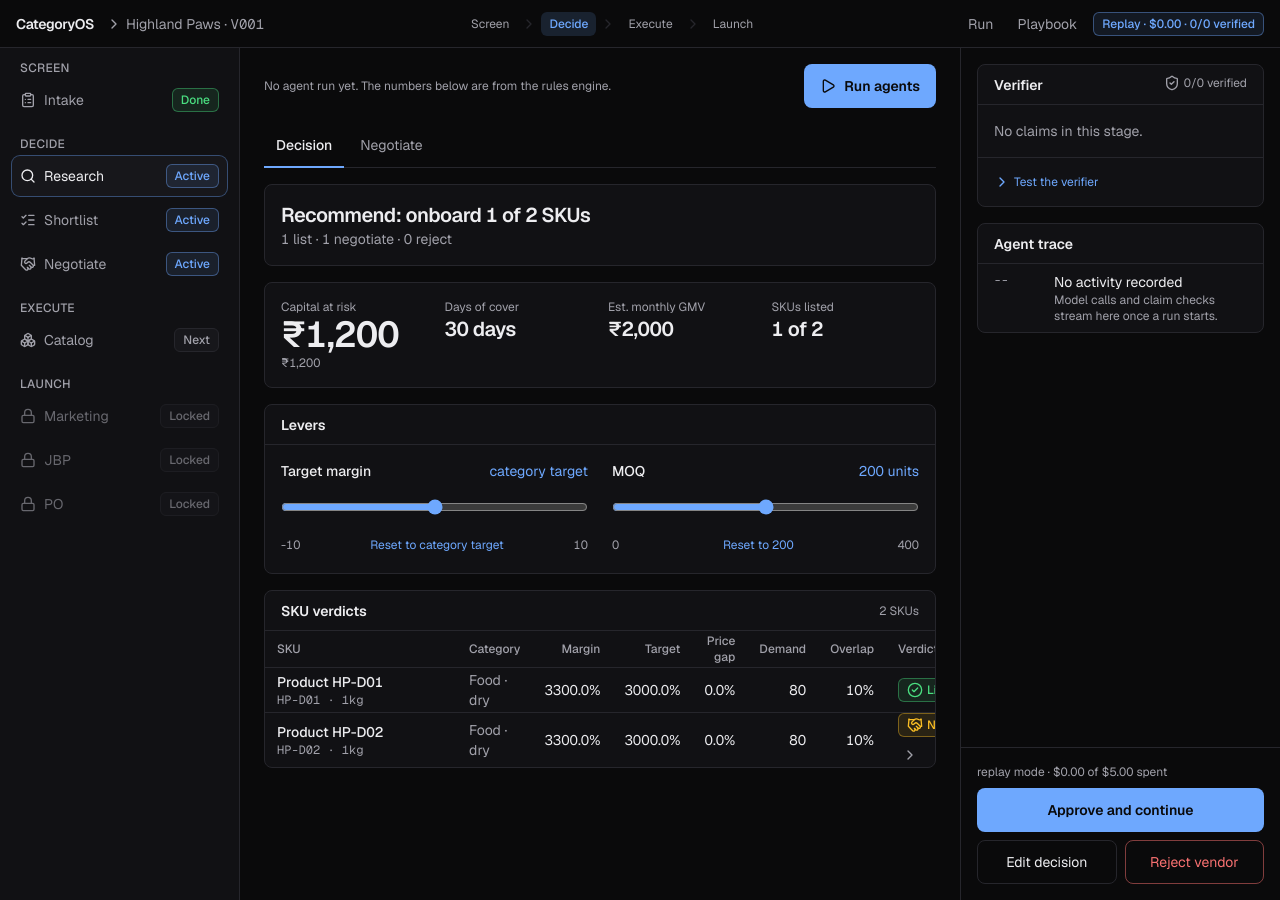
Workspace stage views and lever init › switches the centre panel from the rail and writes ?stage=
Expected: the heading "Recommend: onboard 1 of 2 SKUs" is shown, [281,201,590,229]
Click the button "Catalog Next" at (120, 340), box [12,320,227,360]
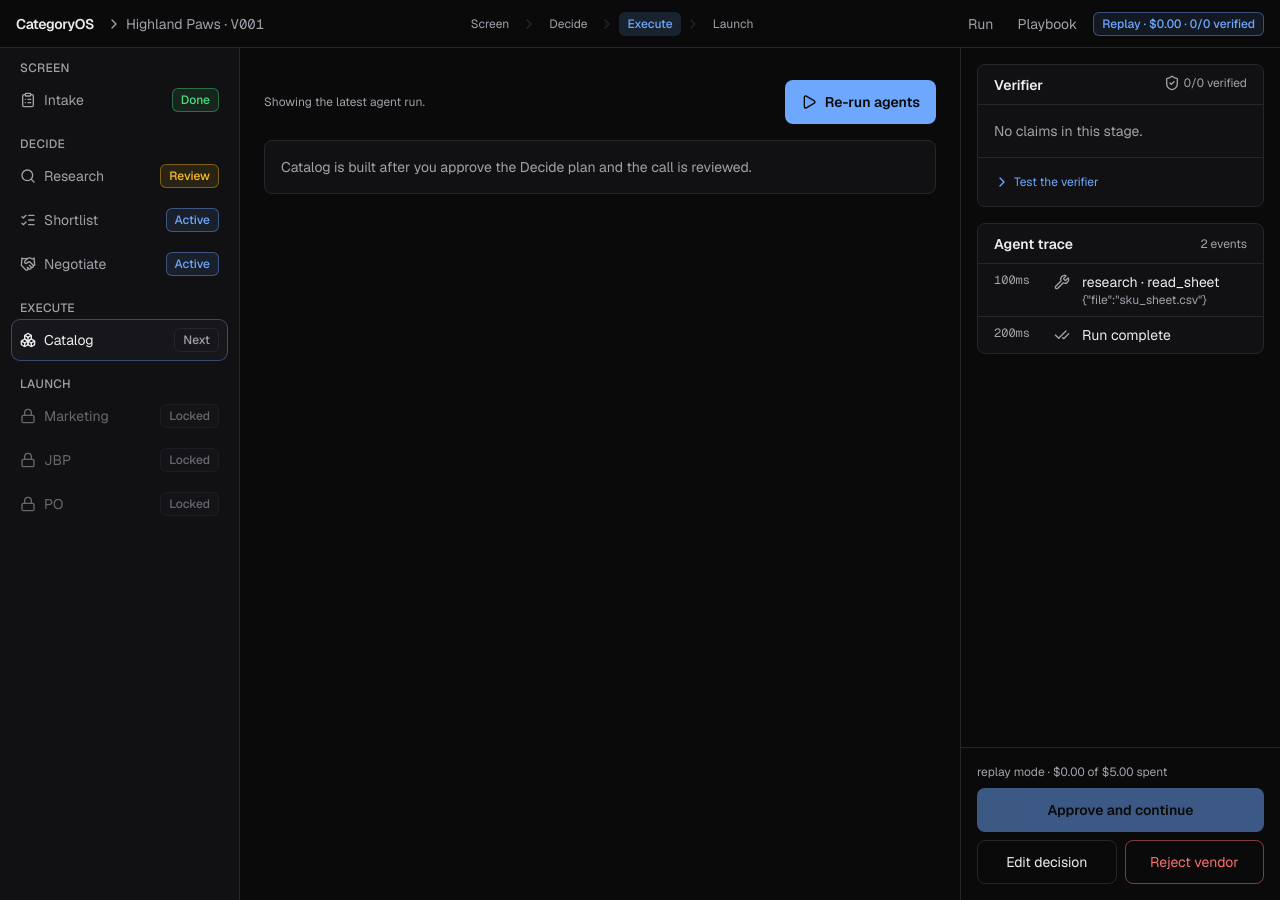
Expected: the element named "Catalog studio" is shown, [264,140,936,194]
Click the button "Negotiate Active" at (120, 264), box [12,244,227,284]
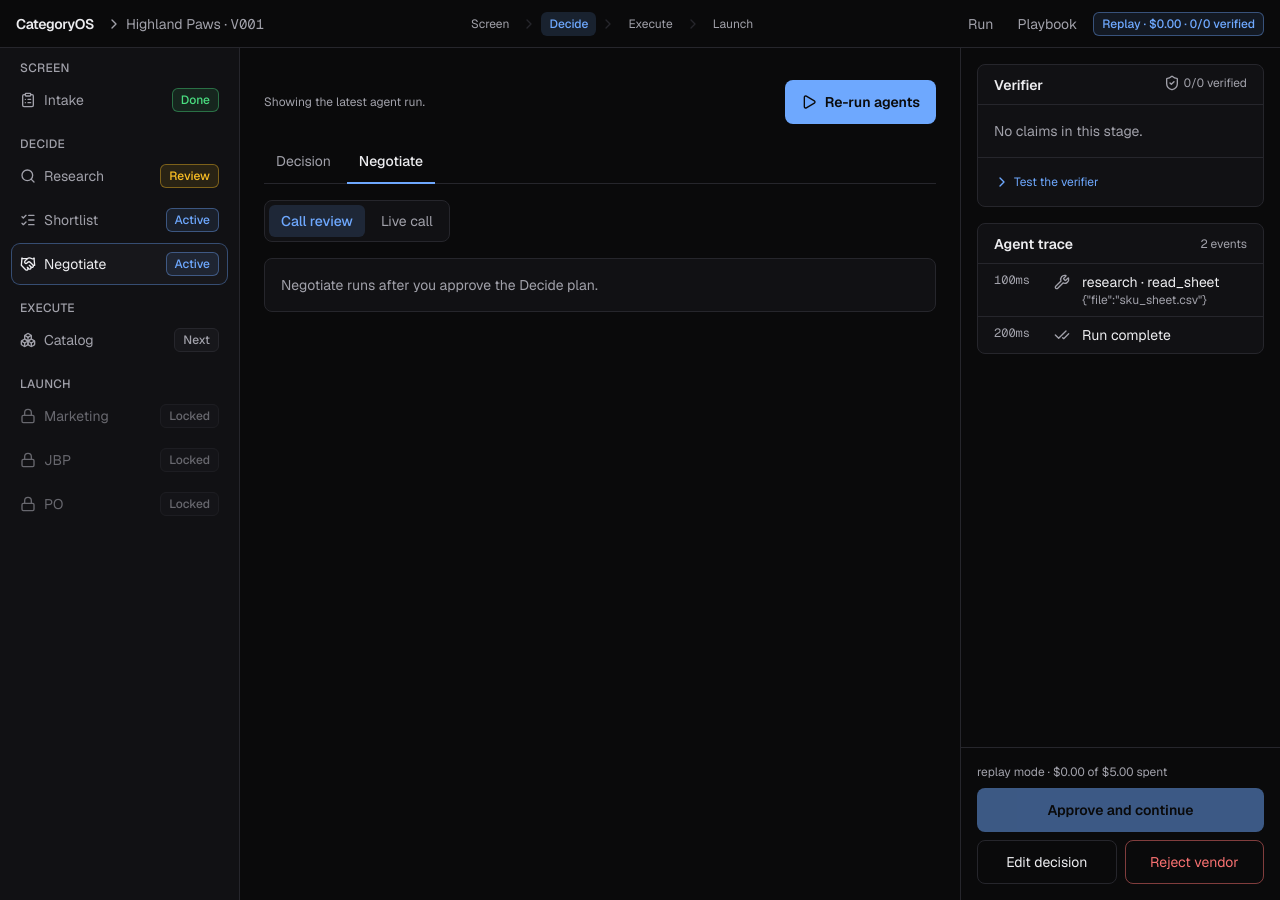
Expected: the tab "Negotiate" is selected, [347,140,435,184]
Click the button "PO Locked" at (120, 504), box [12,484,227,524]
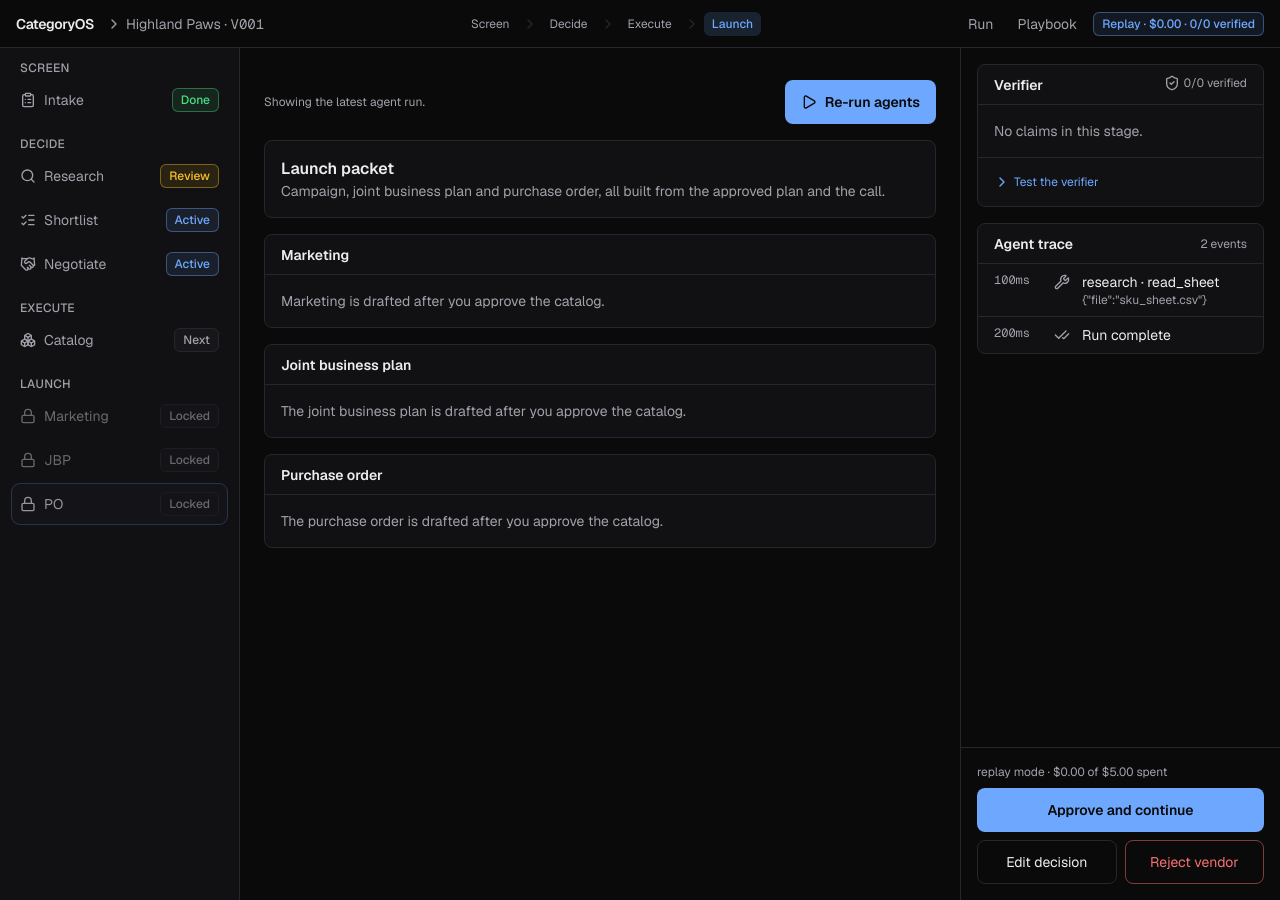
Expected: the element with test id "launch-packet" is shown, [264,140,936,548]
Click the button "Intake Done" at (120, 100), box [12,80,227,120]
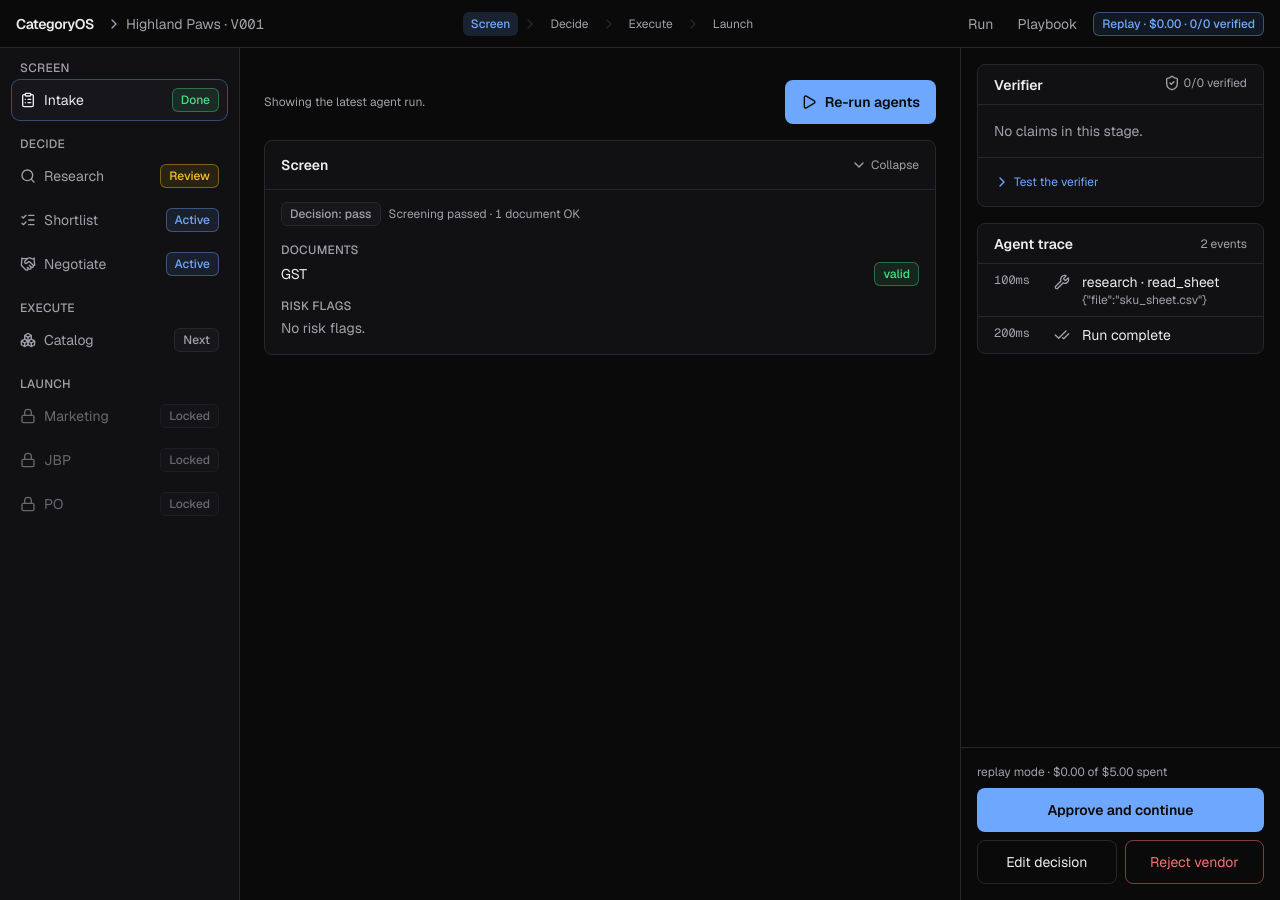
Expected: the button "Collapse" is shown, [851,149,919,181]
